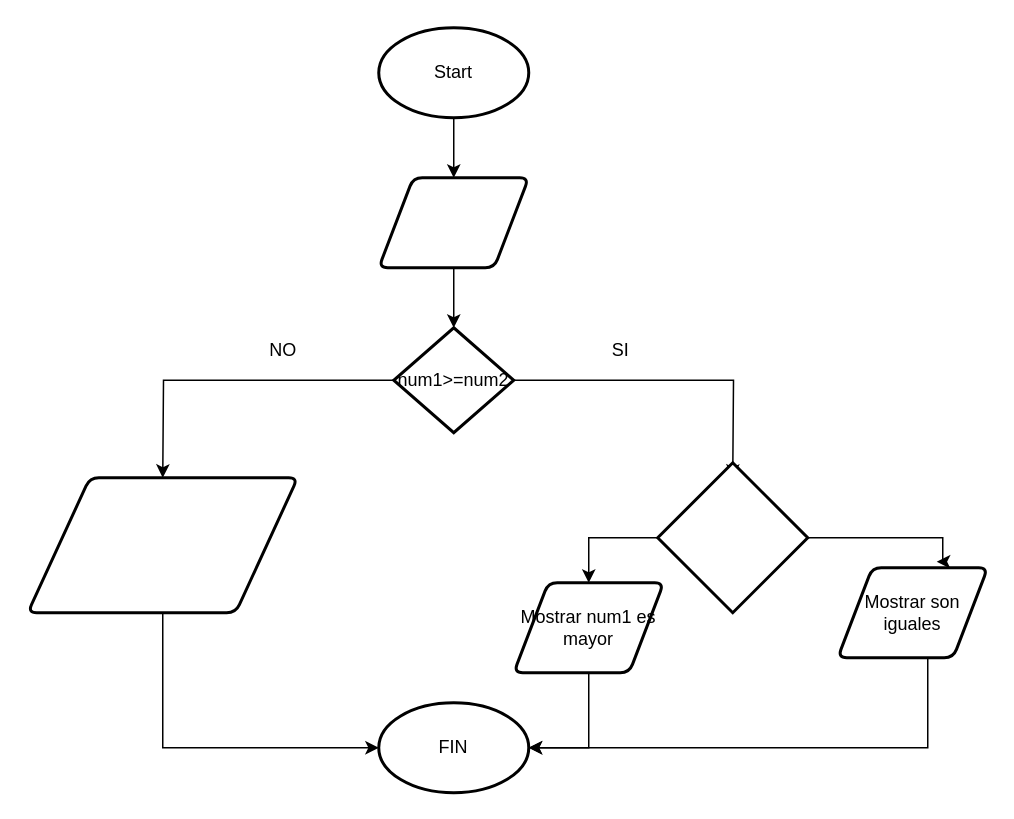
Some shapes in this 1014 by 819 pixel diagram are drawn without their labels. The shapes that lost their labels are listed below. From the top down, each one's box as (x1, y1, x2, y2) in pixels, then its label:
(376, 176, 530, 268): Leer num1 Leer num 2
(26, 476, 298, 614): Mostrar num2 es mayor
(656, 460, 808, 614): num1==num2
